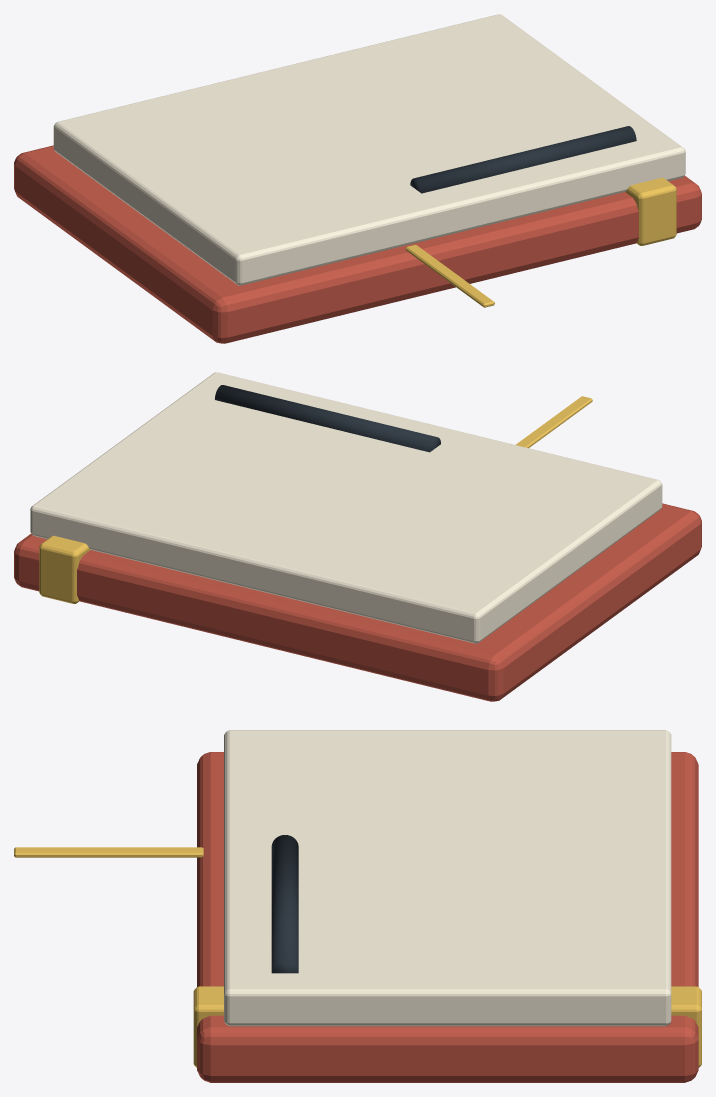
Rendered from diary.glb.
3 renders of one model, top to bottom at view 1: azimuth 30°, elevation 25°; view 2: azimuth 150°, elevation 25°; view 3: azimuth 270°, elevation 25°, orthographic. The views are drawn at different scales.
Parts seen in each view (by area): view 1: pages, cover, pen, band, ribbon; view 2: pages, cover, pen, band, ribbon; view 3: pages, cover, pen, band, ribbon.
Boxes of the visible parts, x1,y1,x2,y2 form: pages: (53,14,685,285); cover: (14,145,701,343); pen: (410,126,636,193); band: (625,177,676,245); ribbon: (405,244,494,307); pages: (30,372,662,643); cover: (14,503,701,701); pen: (215,385,440,452); band: (39,535,90,603); ribbon: (515,396,592,448); pages: (224,730,671,1026); cover: (197,752,698,1082); pen: (271,835,298,973); band: (193,986,701,1067); ribbon: (14,847,203,857).
Size of the model in its own units: 0.5 by 0.085 by 0.5075.
